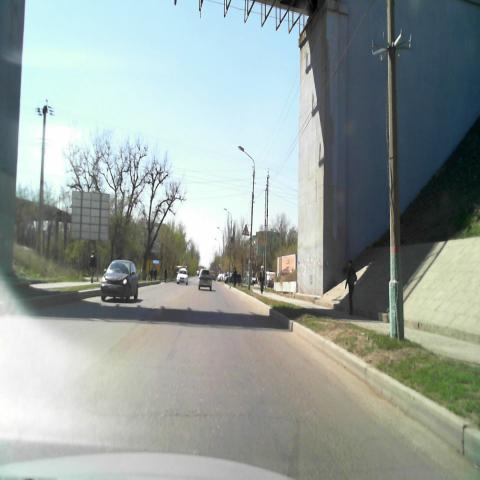2_3_2: (241, 224, 250, 236)
